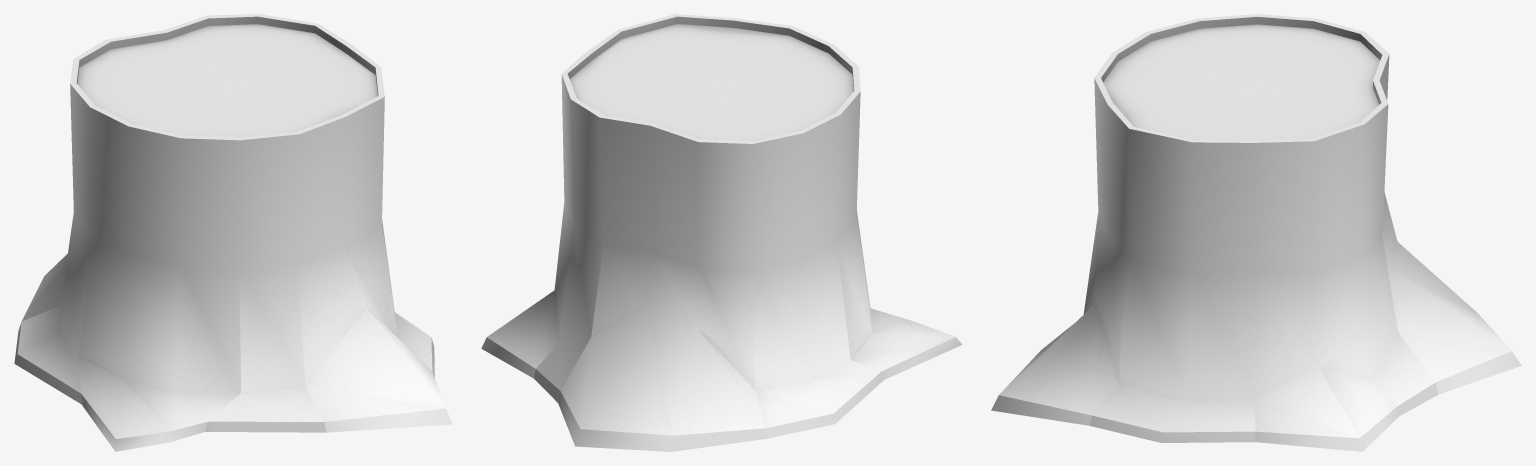
File: a1_stump.fbx
3 renders of one model, left to right at view 1: azimuth 30°, elevation 25°; view 2: azimuth 150°, elevation 25°; view 3: azimuth 270°, elevation 25°, orthographic. The views are drawn at different scales.
Parts seen in each view (by area): view 1: stump; view 2: stump; view 3: stump.
Part boxes in pixels (box(x1,y1,x2,y2)): stump: box(14, 14, 452, 451); stump: box(481, 14, 962, 451); stump: box(991, 14, 1521, 451).
Size of the model in its own units: 1218 by 887 by 1514.
2 materials, 2 textured.
